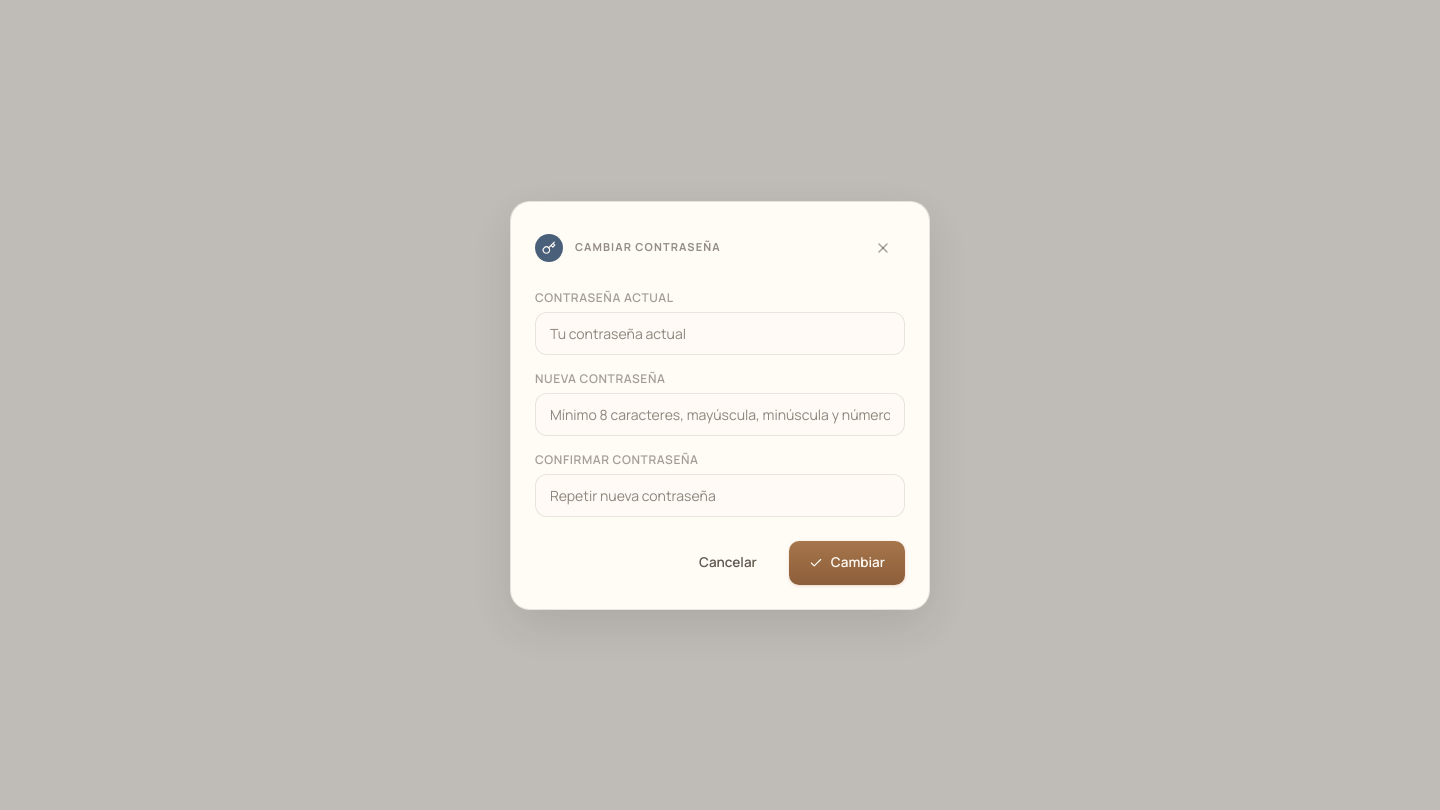
SelfPasswordModal › shows error when current password is empty
In the password field labelled "Nueva contraseña": [720, 414] box [535,392,905,436], type "NewPass1"
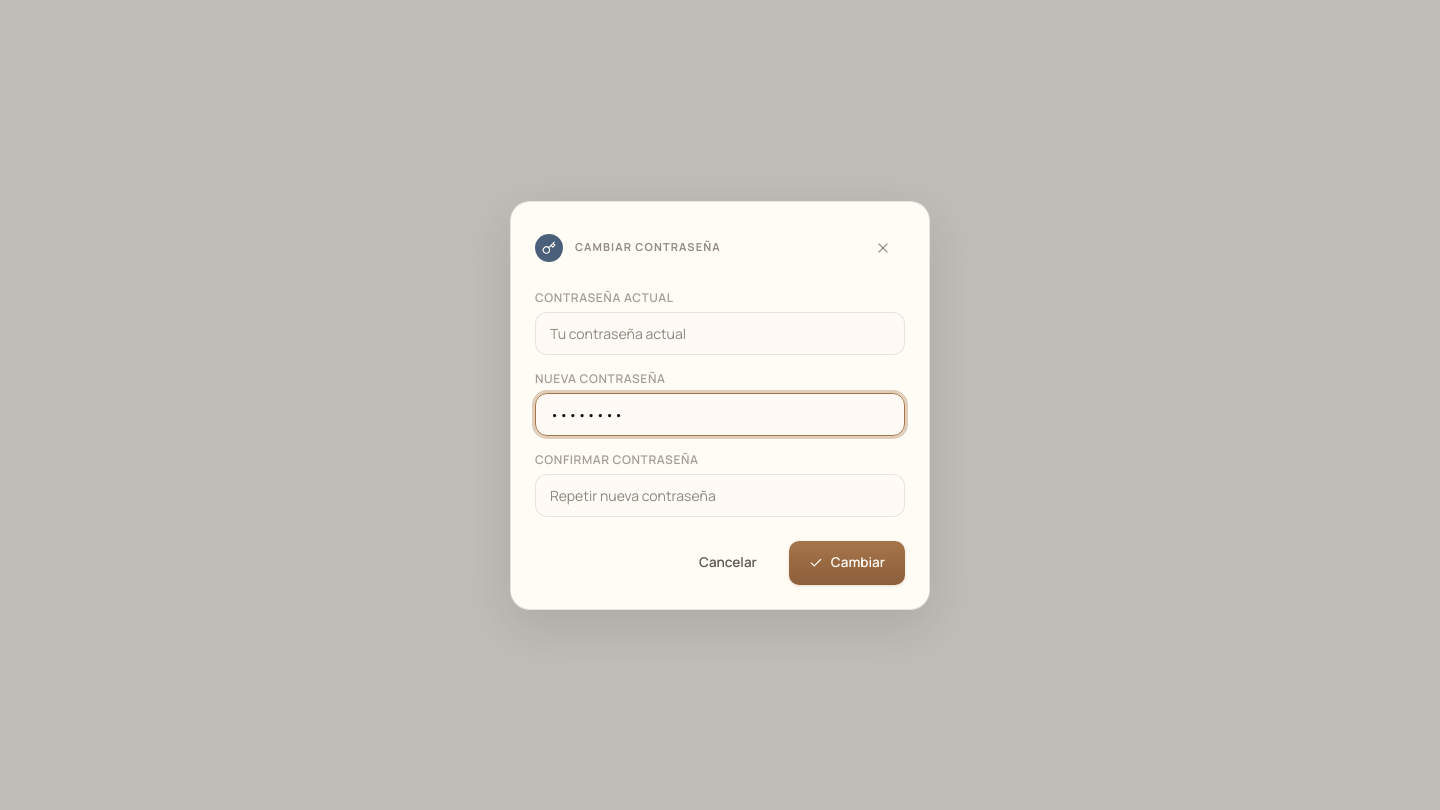
In the password field labelled "Confirmar contraseña": [720, 495] box [535,474,905,516], type "NewPass1"
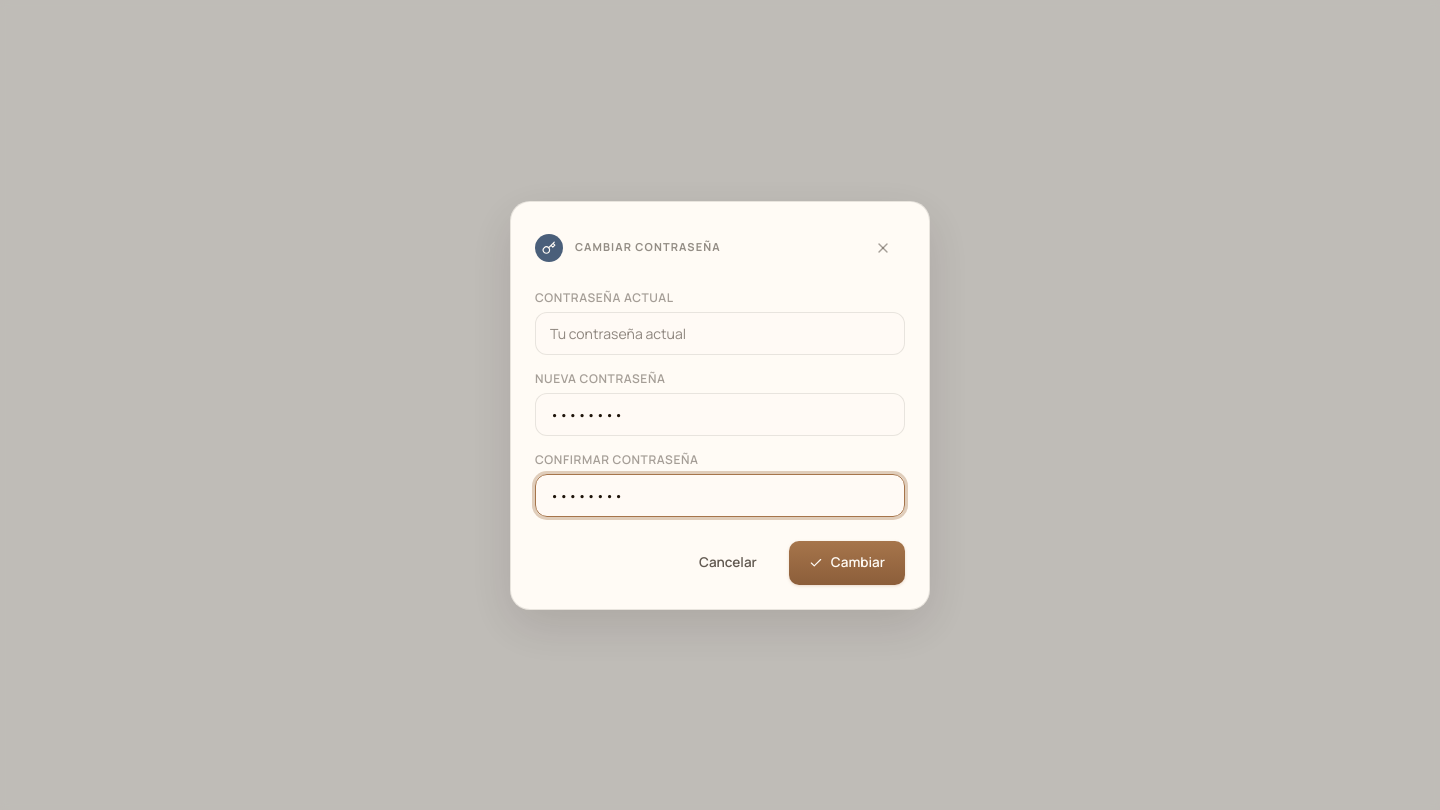
Click the button "Cambiar": [847, 562] box [789,540,905,584]
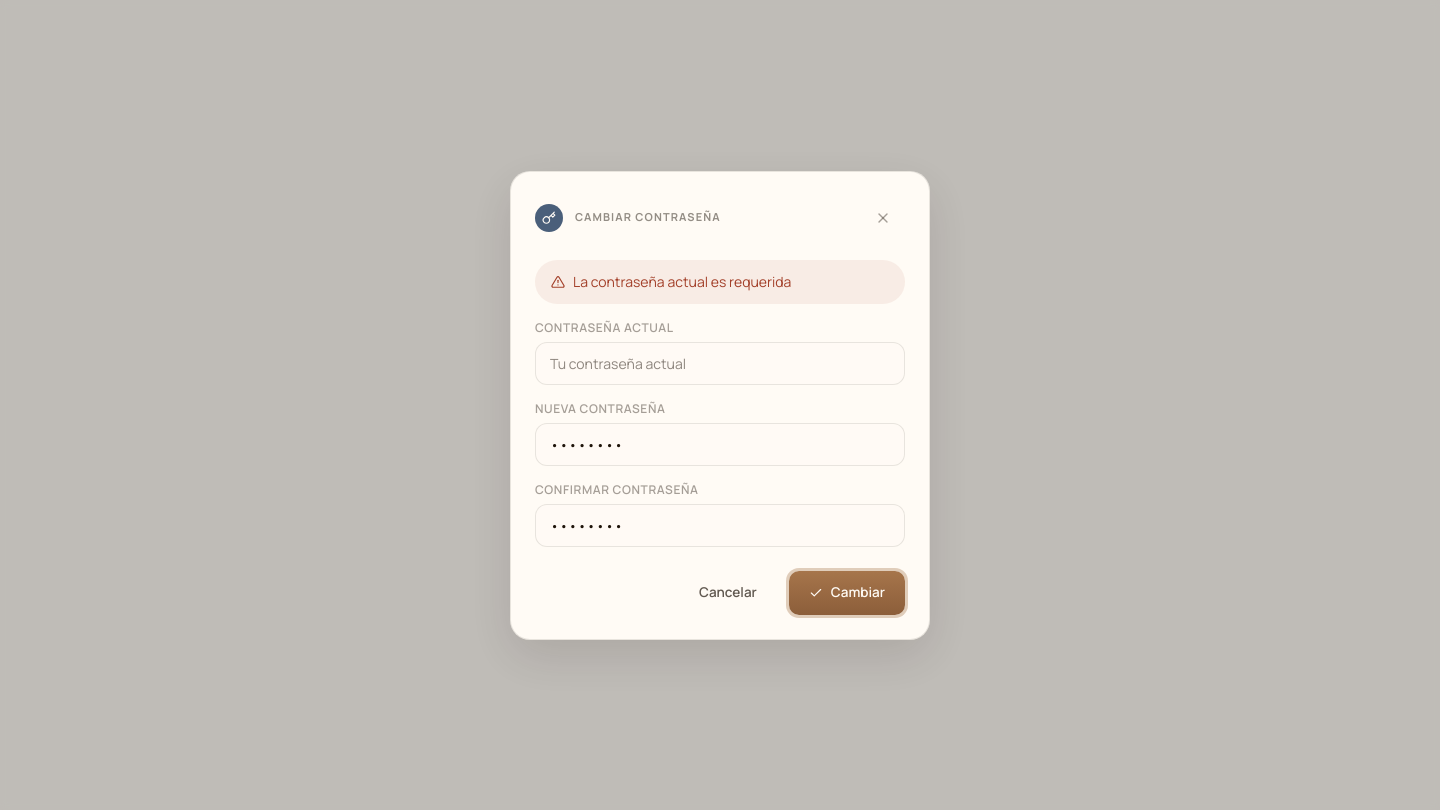
Now the text "La contraseña actual es requerida" is shown, box [535,260,905,304]
